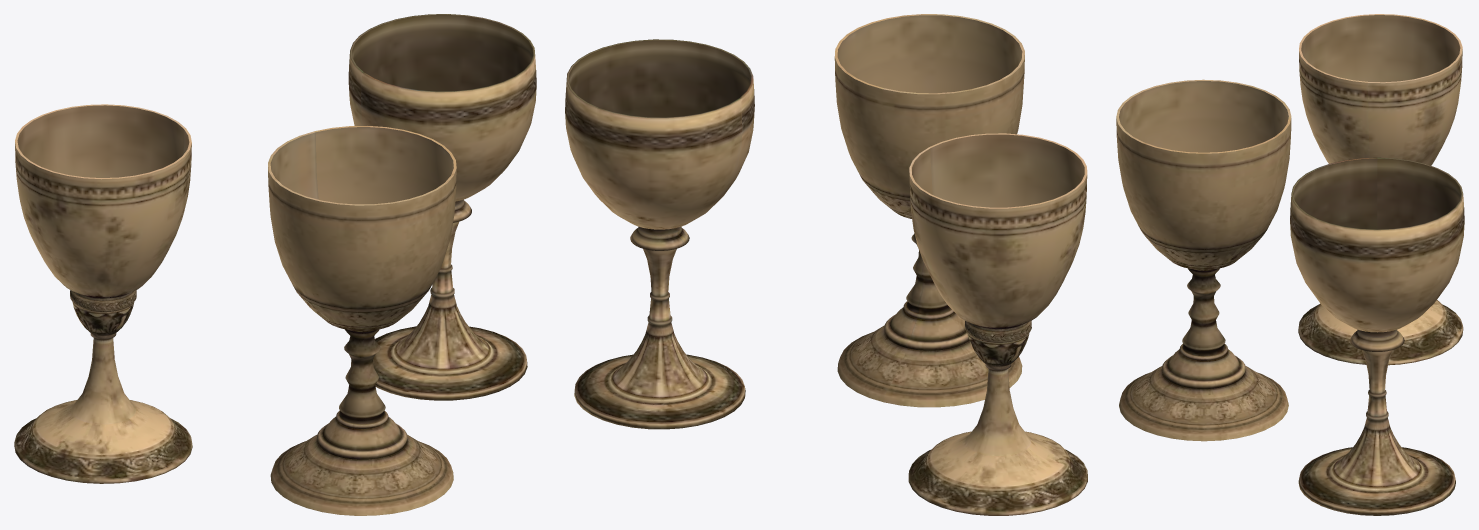
Rendered from brass_goblets.glb.
3 views of the same model, side by side, from view 1: azimuth 30°, elevation 25°; view 2: azimuth 150°, elevation 25°; view 3: azimuth 270°, elevation 25° (orthographic). The views are drawn at different scales.
Parts seen in each view (by area): view 1: brass_goblet_01, brass_goblet_02, brass_goblet_03; view 2: brass_goblet_02, brass_goblet_03, brass_goblet_01; view 3: brass_goblet_01, brass_goblet_03, brass_goblet_02.
Boxes of the visible parts, x1,y1,x2,y2 form: brass_goblet_01: [268, 126, 456, 515]; brass_goblet_02: [14, 104, 192, 483]; brass_goblet_03: [348, 14, 536, 400]; brass_goblet_02: [908, 133, 1087, 515]; brass_goblet_03: [565, 39, 754, 429]; brass_goblet_01: [834, 14, 1024, 407]; brass_goblet_01: [1116, 79, 1291, 441]; brass_goblet_03: [1290, 157, 1464, 515]; brass_goblet_02: [1298, 14, 1463, 365].
Size of the model in its own units: 0.4534 by 0.2734 by 0.2976.
3 materials, 3 textured.
